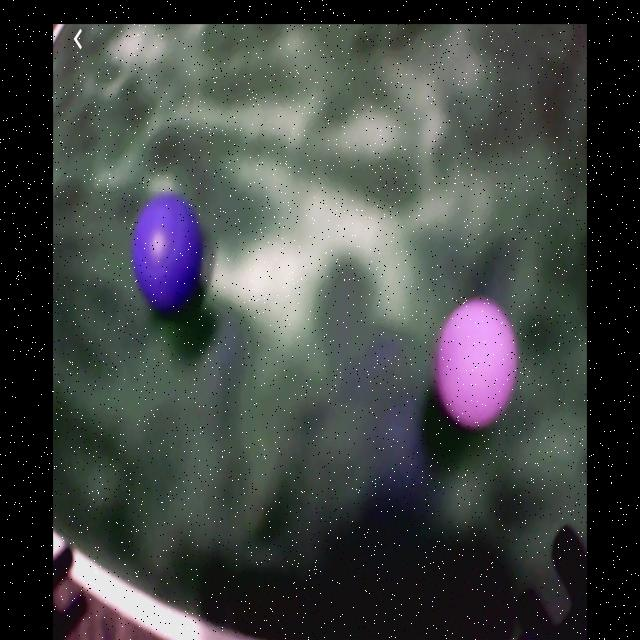ball: (438, 297, 518, 428), (134, 197, 203, 313)
